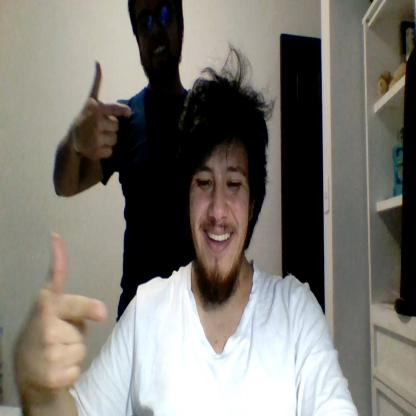G: (25, 233, 107, 402), (78, 60, 132, 158)
